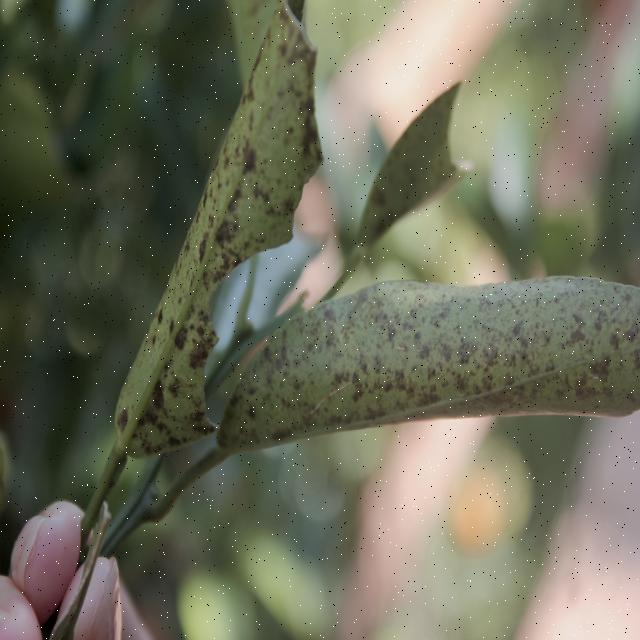melanose: (95, 4, 326, 460), (227, 270, 640, 475), (352, 71, 480, 260)
